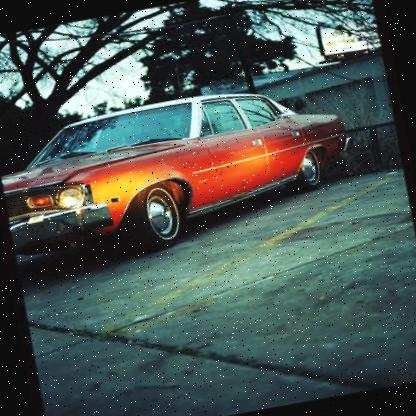car: (0, 63, 365, 276)
